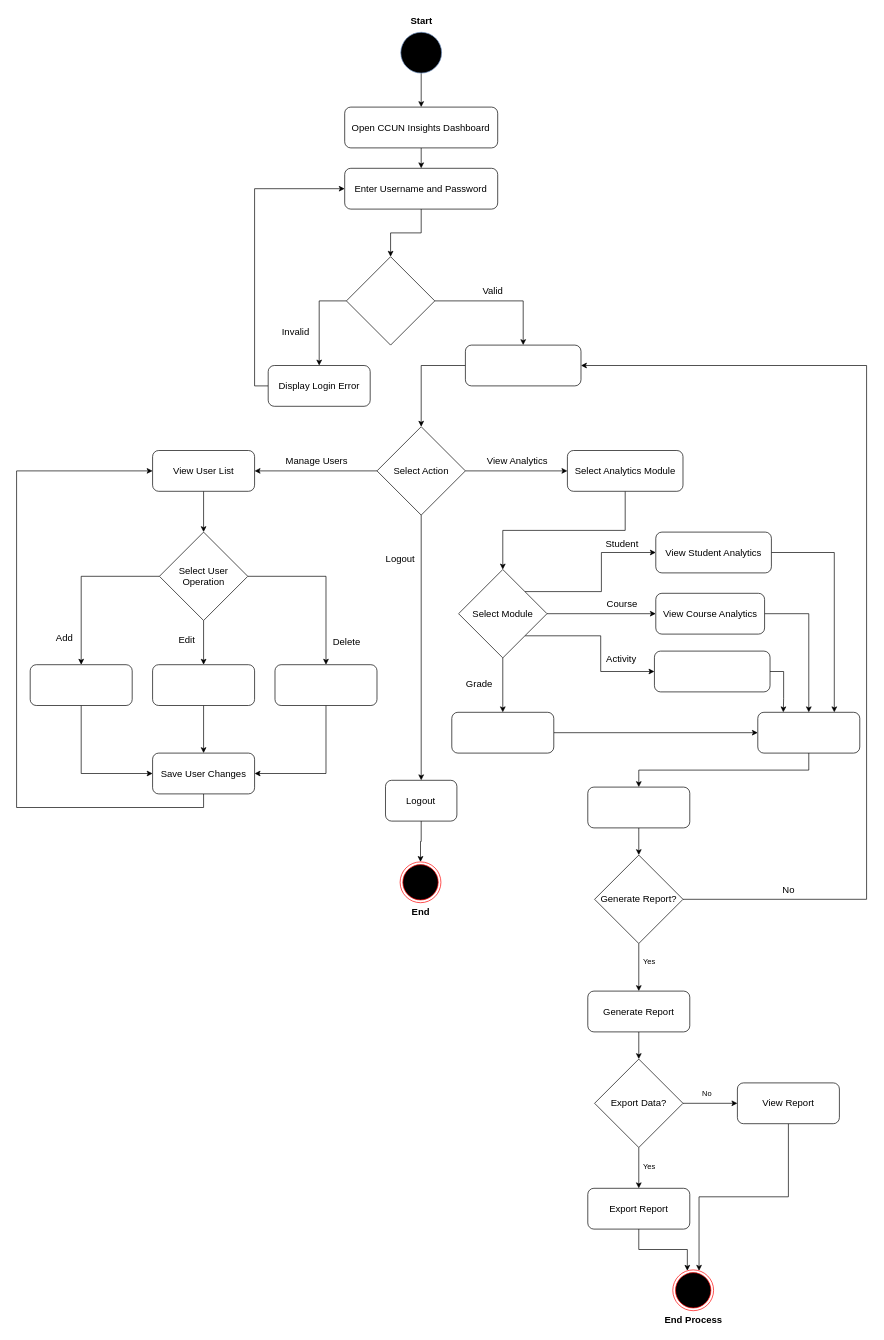
This 884x1340 diagram has some shape labels left out. Each missing label, with the centre of its shape:
"Apply Advanced Filter / Search student, course, institute, date, status" goes at pixel 808 732.
"Create User Account" goes at pixel 81 685.
"Display Admin Dashboard" goes at pixel 523 365.
"Display Analytics Results" goes at pixel 638 807.
"Remove User Account" goes at pixel 325 685.
"Update User Information" goes at pixel 203 685.
"Validate Login" goes at pixel 390 300.
"View Activity Analytics" goes at pixel 712 671.
"View Grade Analytics" goes at pixel 502 732.
